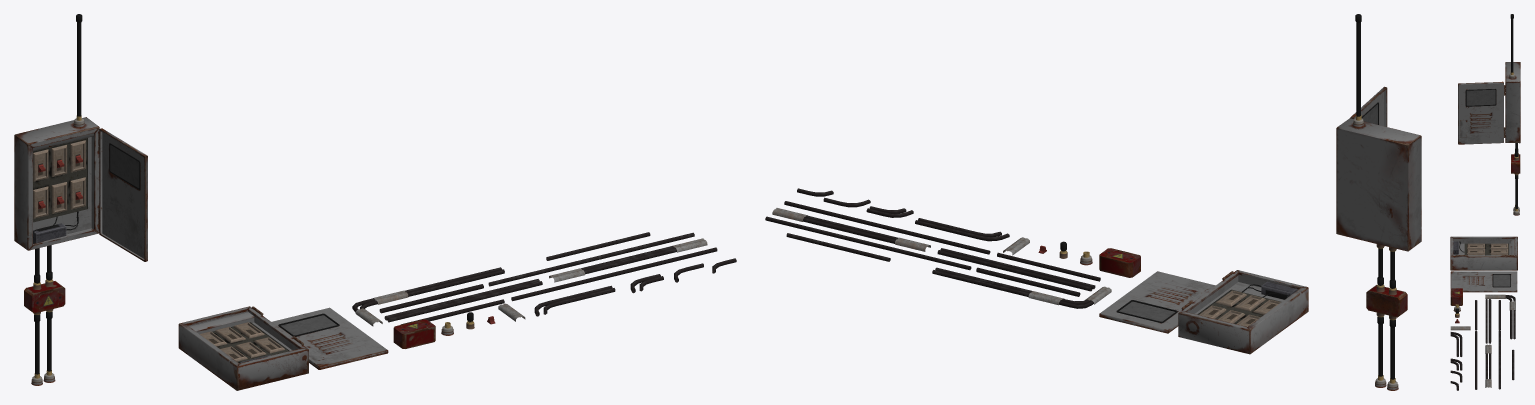
File: distribution_box.glb
3 renders of one model, left to right at view 1: azimuth 30°, elevation 25°; view 2: azimuth 150°, elevation 25°; view 3: azimuth 270°, elevation 25°, orthographic. The views are drawn at different scales.
Visible parts, largest first — view 1: SM_DBox_Full_001_MAT_DBox_001_0, SM_Distribution_Box_Body, SM_Distribution_Box_Door, SM_Wire_Set_001, SM_Wire_Set_002, SM_Wire_Set_003, SM_Distribution_Box_Compensator, SM_Wire_Line_001, SM_Wire_Line_002, SM_Wire_Angle_001; view 2: SM_DBox_Full_001_MAT_DBox_001_0, SM_Distribution_Box_Body, SM_Distribution_Box_Door, SM_Wire_Set_001, SM_Wire_Set_002, SM_Wire_Set_003, SM_Wire_Line_001, SM_Wire_Line_002, SM_Distribution_Box_Compensator, SM_Wire_Angle_001, SM_Distribution_Box_Wire_001; view 3: SM_DBox_Full_001_MAT_DBox_001_0, SM_Distribution_Box_Body, SM_Distribution_Box_Door, SM_Wire_Set_001, SM_Wire_Set_003, SM_Wire_Set_002, SM_Distribution_Box_Compensator, SM_Wire_Line_002, SM_Wire_Line_001, SM_Wire_Angle_001, SM_Wire_Holder, SM_Wire_Angle_002 (+3 smaller).
Boxes of the visible parts, bbox=[...] form: SM_DBox_Full_001_MAT_DBox_001_0: bbox=[14, 14, 147, 385]; SM_Distribution_Box_Body: bbox=[178, 306, 308, 390]; SM_Distribution_Box_Door: bbox=[272, 307, 388, 369]; SM_Wire_Set_001: bbox=[352, 267, 504, 326]; SM_Wire_Set_002: bbox=[549, 238, 707, 282]; SM_Wire_Set_003: bbox=[384, 279, 542, 322]; SM_Distribution_Box_Compensator: bbox=[393, 319, 435, 348]; SM_Wire_Line_001: bbox=[511, 247, 717, 301]; SM_Wire_Line_002: bbox=[488, 232, 694, 286]; SM_Wire_Angle_001: bbox=[534, 285, 615, 316]; SM_DBox_Full_001_MAT_DBox_001_0: bbox=[1336, 14, 1421, 390]; SM_Distribution_Box_Body: bbox=[1178, 270, 1308, 354]; SM_Distribution_Box_Door: bbox=[1099, 271, 1215, 333]; SM_Wire_Set_001: bbox=[932, 267, 1111, 308]; SM_Wire_Set_002: bbox=[772, 208, 930, 251]; SM_Wire_Set_003: bbox=[937, 248, 1095, 291]; SM_Wire_Line_001: bbox=[784, 201, 990, 254]; SM_Wire_Line_002: bbox=[765, 216, 971, 270]; SM_Distribution_Box_Compensator: bbox=[1099, 248, 1140, 277]; SM_Wire_Angle_001: bbox=[915, 218, 1009, 241]; SM_Distribution_Box_Wire_001: bbox=[976, 267, 1080, 296]; SM_DBox_Full_001_MAT_DBox_001_0: bbox=[1458, 14, 1520, 215]; SM_Distribution_Box_Body: bbox=[1450, 236, 1517, 270]; SM_Distribution_Box_Door: bbox=[1450, 271, 1517, 292]; SM_Wire_Set_001: bbox=[1485, 294, 1515, 339]; SM_Wire_Set_003: bbox=[1485, 299, 1491, 343]; SM_Wire_Set_002: bbox=[1485, 344, 1491, 387]; SM_Distribution_Box_Compensator: bbox=[1450, 288, 1462, 305]; SM_Wire_Line_002: bbox=[1498, 330, 1500, 389]; SM_Wire_Line_001: bbox=[1475, 331, 1477, 389]; SM_Wire_Angle_001: bbox=[1450, 332, 1462, 356]; SM_Wire_Holder: bbox=[1450, 326, 1470, 330]; SM_Wire_Angle_002: bbox=[1450, 358, 1462, 370].
Size of the model in its own units: 3.96 by 2.06 by 0.6355.
2 materials, 2 textured.
